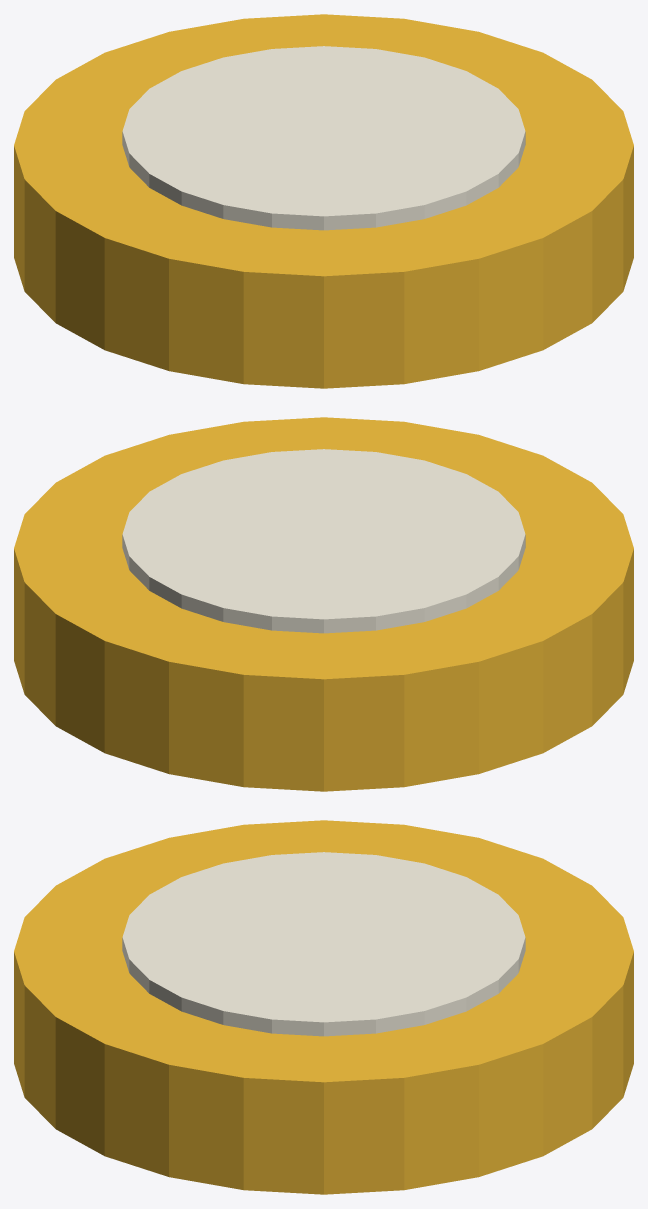
Rendered from Item_OR_Chip_21.glb.
3 renders of one model, top to bottom at view 1: azimuth 30°, elevation 25°; view 2: azimuth 150°, elevation 25°; view 3: azimuth 270°, elevation 25°, orthographic.
Visible parts, largest first — view 1: Item_OR_Chip_21; view 2: Item_OR_Chip_21; view 3: Item_OR_Chip_21.
Part boxes in pixels (left/top/right/bottom): Item_OR_Chip_21: left=14, top=14, right=633, bottom=388; Item_OR_Chip_21: left=14, top=417, right=633, bottom=791; Item_OR_Chip_21: left=14, top=820, right=633, bottom=1194.
Size of the model in its own units: 0.04 by 0.009 by 0.04.
